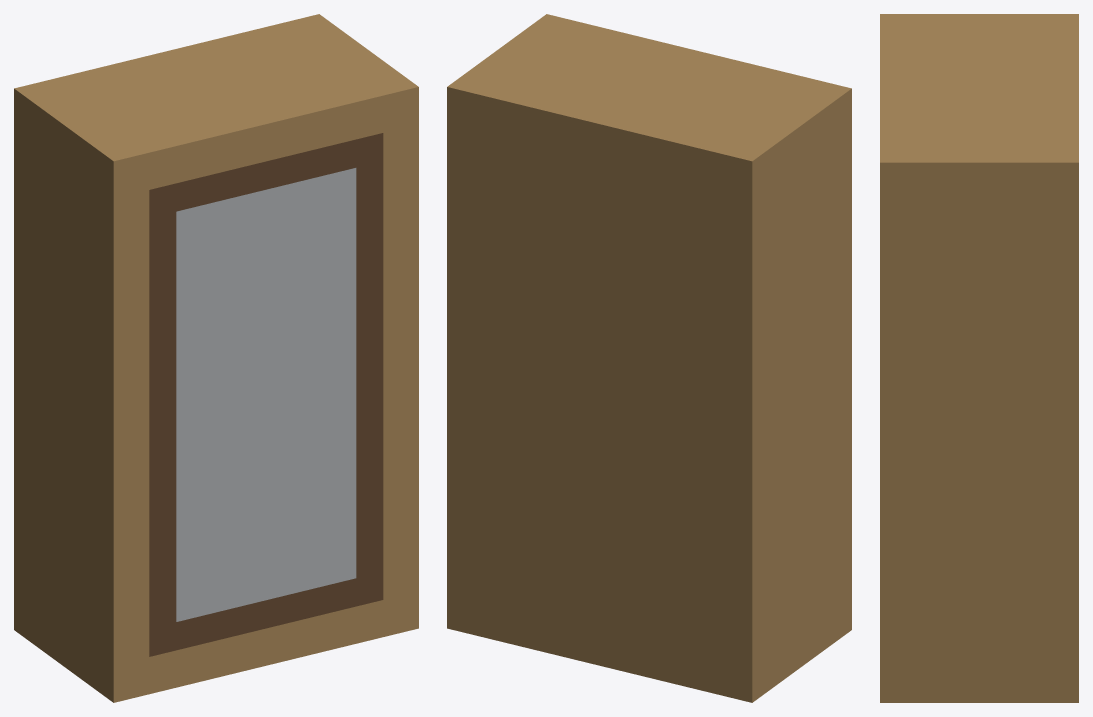
Rendered from bathroom_cabinet.glb.
3 renders of one model, left to right at view 1: azimuth 30°, elevation 25°; view 2: azimuth 150°, elevation 25°; view 3: azimuth 270°, elevation 25°, orthographic.
Visible parts, largest first — view 1: bathroom_cabinet; view 2: bathroom_cabinet; view 3: bathroom_cabinet.
Boxes of the visible parts, x1,y1,x2,y2 form: bathroom_cabinet: (14,14,418,702); bathroom_cabinet: (447,14,851,702); bathroom_cabinet: (880,14,1078,702).
Size of the model in its own units: 0.5 by 0.8478 by 0.2826.
